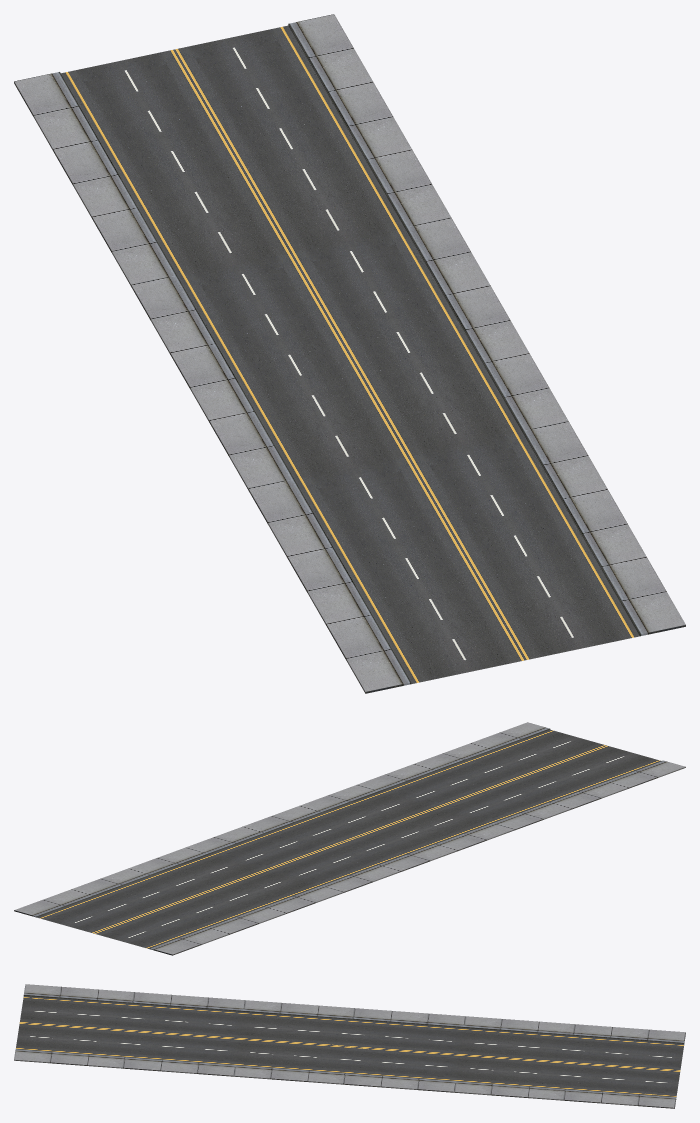
The model's file is road12.glb.
3 views of the same model, one above another, from view 1: azimuth 30°, elevation 25°; view 2: azimuth 150°, elevation 25°; view 3: azimuth 270°, elevation 25° (orthographic). The views are drawn at different scales.
Visible parts, largest first — view 1: ro_12; view 2: ro_12; view 3: ro_12.
Part boxes in pixels (x1,y1,x2,y2): ro_12: (14, 14, 685, 693); ro_12: (14, 722, 685, 955); ro_12: (14, 984, 685, 1108).
Bounding box in the file's own units: 60.33 × 5.2 × 114.
Materials: 1 (1 with a texture image).
